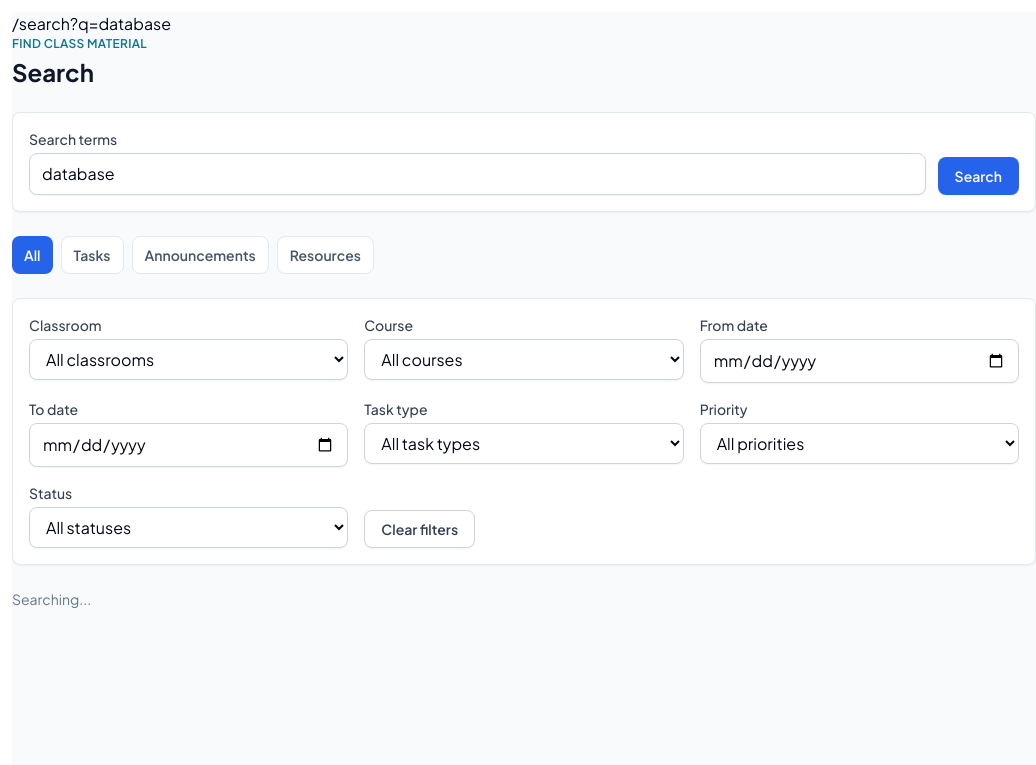
Scenario: global search › ignores a stale search response when filters change quickly
The image size is (1036, 765).
Click the tab "Announcements": (200, 255) [132,236,269,274]
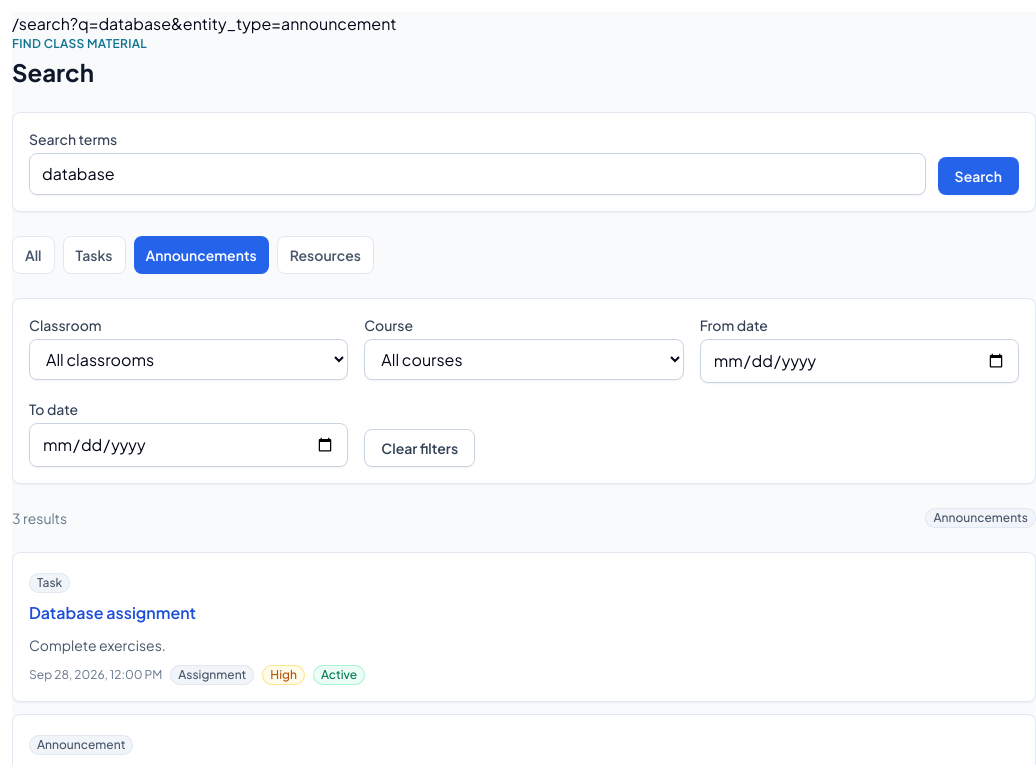
Check: the text "3 results" is shown, box [12,508,67,528]
